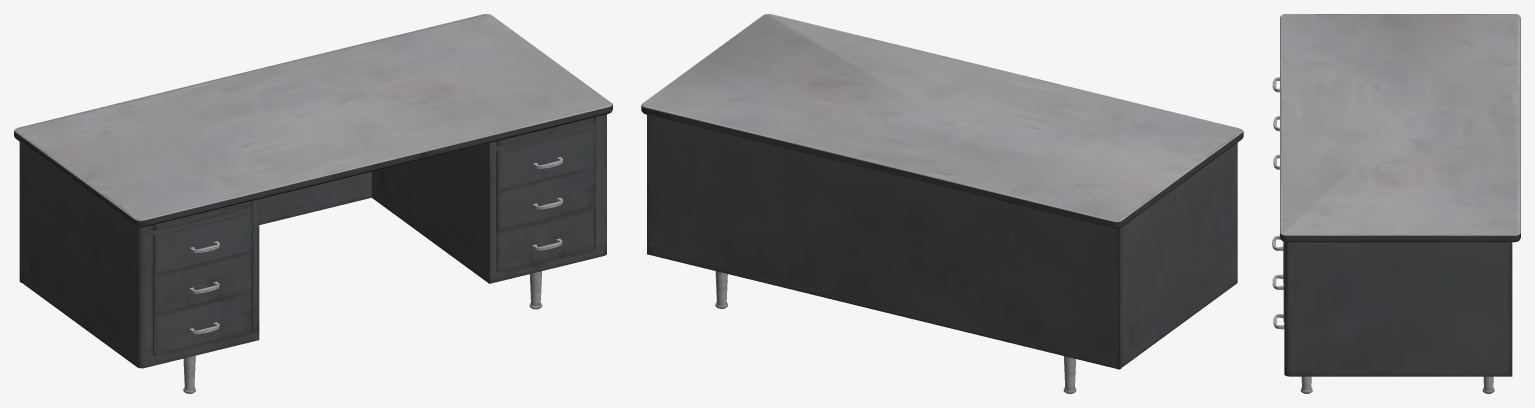
Rendered from prop-metal-office-desk.glb.
3 views of the same model, side by side, from view 1: azimuth 30°, elevation 25°; view 2: azimuth 150°, elevation 25°; view 3: azimuth 270°, elevation 25° (orthographic). The views are drawn at different scales.
Visible parts, largest first — view 1: metal_office_desk_drawer_06; view 2: metal_office_desk_drawer_06; view 3: metal_office_desk_drawer_06.
Boxes of the visible parts, x1,y1,x2,y2 form: metal_office_desk_drawer_06: [14, 14, 612, 393]; metal_office_desk_drawer_06: [641, 14, 1243, 393]; metal_office_desk_drawer_06: [1272, 14, 1520, 393].
Bounding box in the file's own units: 2 × 0.7874 × 0.9471.
1 material, 1 textured.
